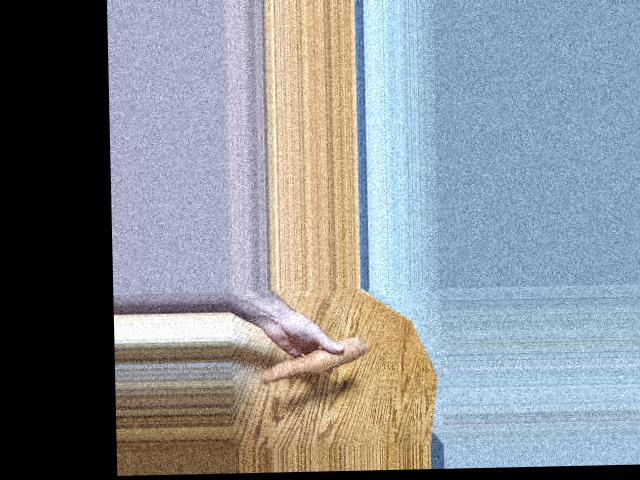sweet_potato: (253, 342, 366, 375)
